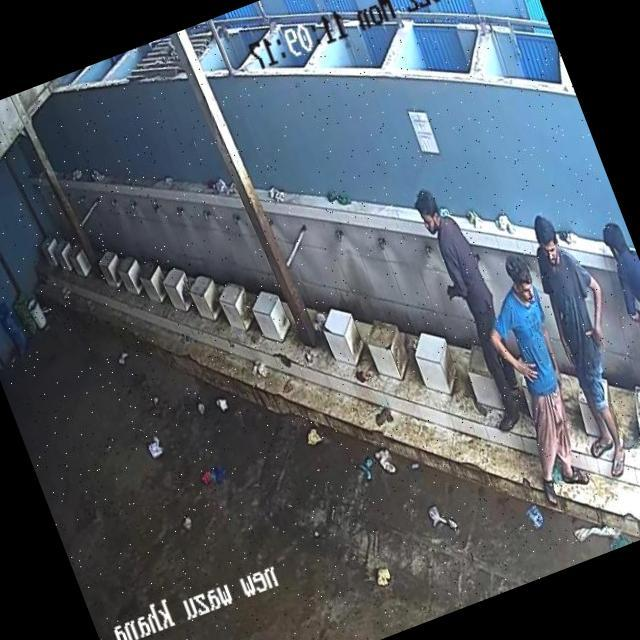person: (466, 260, 614, 510), (509, 209, 640, 488), (406, 185, 526, 422), (591, 230, 640, 447)
